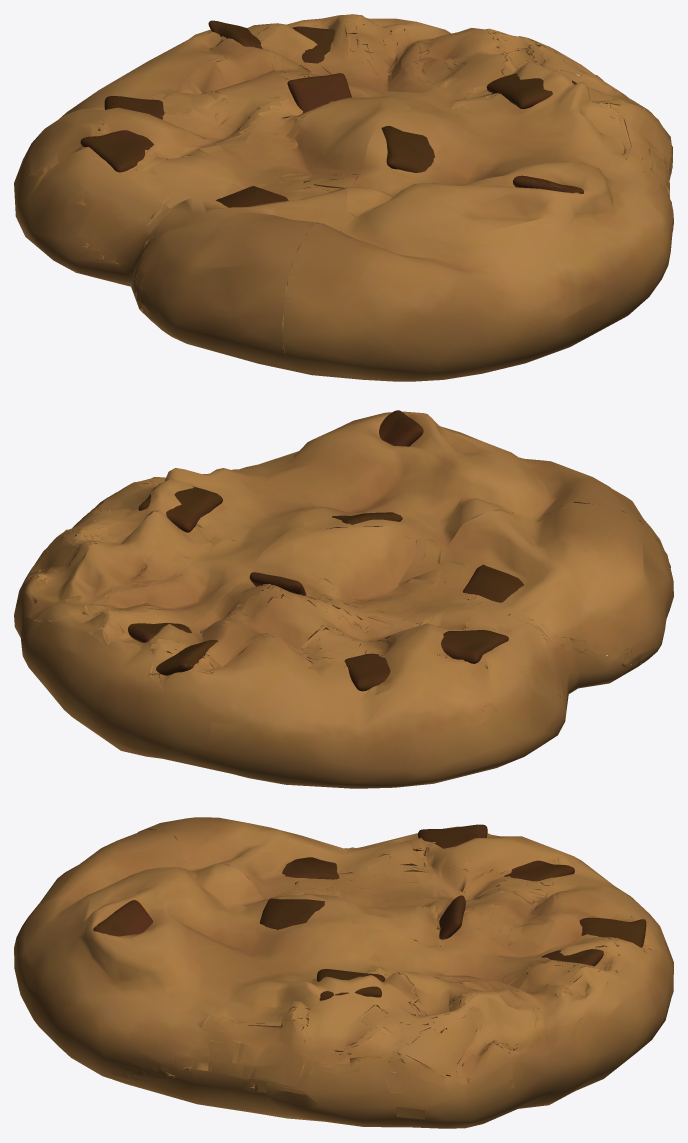
File: cookie.glb
3 views of the same model, one above another, from view 1: azimuth 30°, elevation 25°; view 2: azimuth 150°, elevation 25°; view 3: azimuth 270°, elevation 25° (orthographic). The views are drawn at different scales.
Visible parts, largest first — view 1: defaultMaterial; view 2: defaultMaterial; view 3: defaultMaterial.
Boxes of the visible parts, <box> form: defaultMaterial: <box>14,14,673,381</box>; defaultMaterial: <box>14,410,673,788</box>; defaultMaterial: <box>14,817,673,1128</box>.
Size of the model in its own units: 0.0632 by 0.0185 by 0.07.
1 material, 1 textured.
